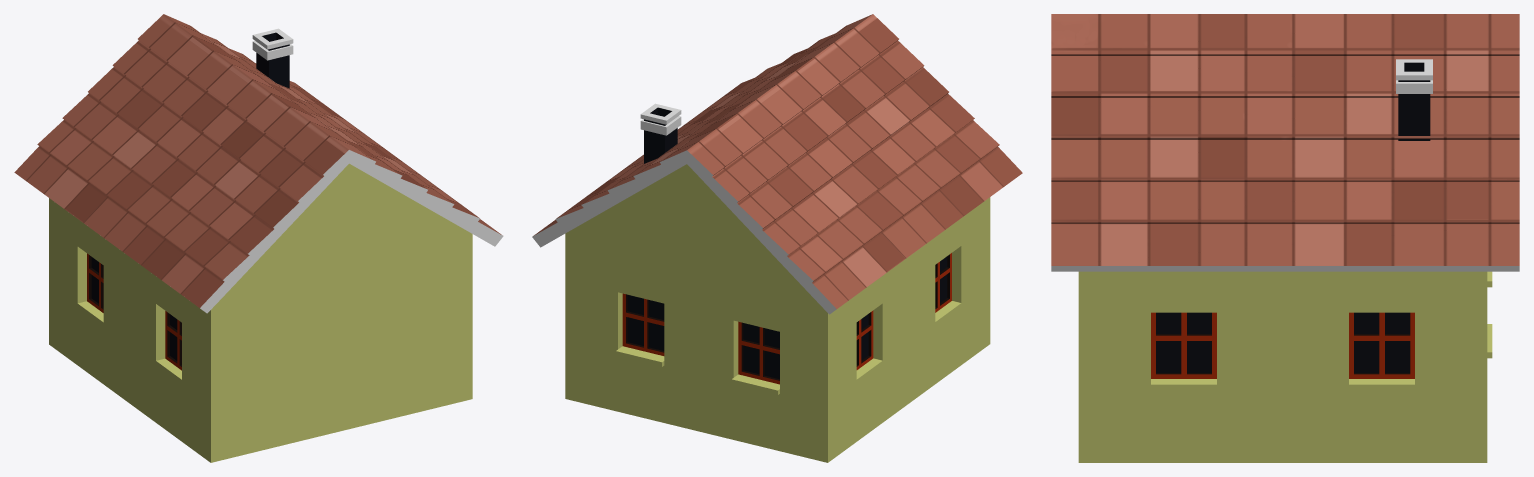
The model's file is house_5.FBX.
3 renders of one model, left to right at view 1: azimuth 30°, elevation 25°; view 2: azimuth 150°, elevation 25°; view 3: azimuth 270°, elevation 25°, orthographic. The views are drawn at different scales.
Visible parts, largest first — view 1: Box1445, house_2_roof013, house_2_underroof012, house_006, Box1446, h2_smoke_hall011; view 2: Box1445, house_2_roof013, house_006, house_2_underroof012, Box1446, h2_smoke_hall011; view 3: house_2_roof013, Box1445, house_006, house_2_underroof012, Box1446, h2_smoke_hall011.
Boxes of the visible parts, x1,y1,x2,y2 form: Box1445: (49, 163, 472, 462); house_2_roof013: (14, 14, 501, 307); house_2_underroof012: (200, 150, 503, 313); house_006: (87, 253, 181, 370); Box1446: (256, 32, 289, 88); h2_smoke_hall011: (252, 28, 293, 60); Box1445: (565, 164, 990, 462); house_2_roof013: (533, 14, 1022, 308); house_006: (616, 253, 951, 395); house_2_underroof012: (532, 150, 836, 314); Box1446: (644, 107, 677, 163); h2_smoke_hall011: (640, 103, 681, 135); house_2_roof013: (1051, 14, 1519, 265); Box1445: (1078, 271, 1487, 462); house_006: (1151, 271, 1492, 378); house_2_underroof012: (1051, 266, 1519, 271); Box1446: (1398, 62, 1430, 140); h2_smoke_hall011: (1396, 59, 1432, 93).
Size of the model in its own units: 33.51 by 30.56 by 35.42.
